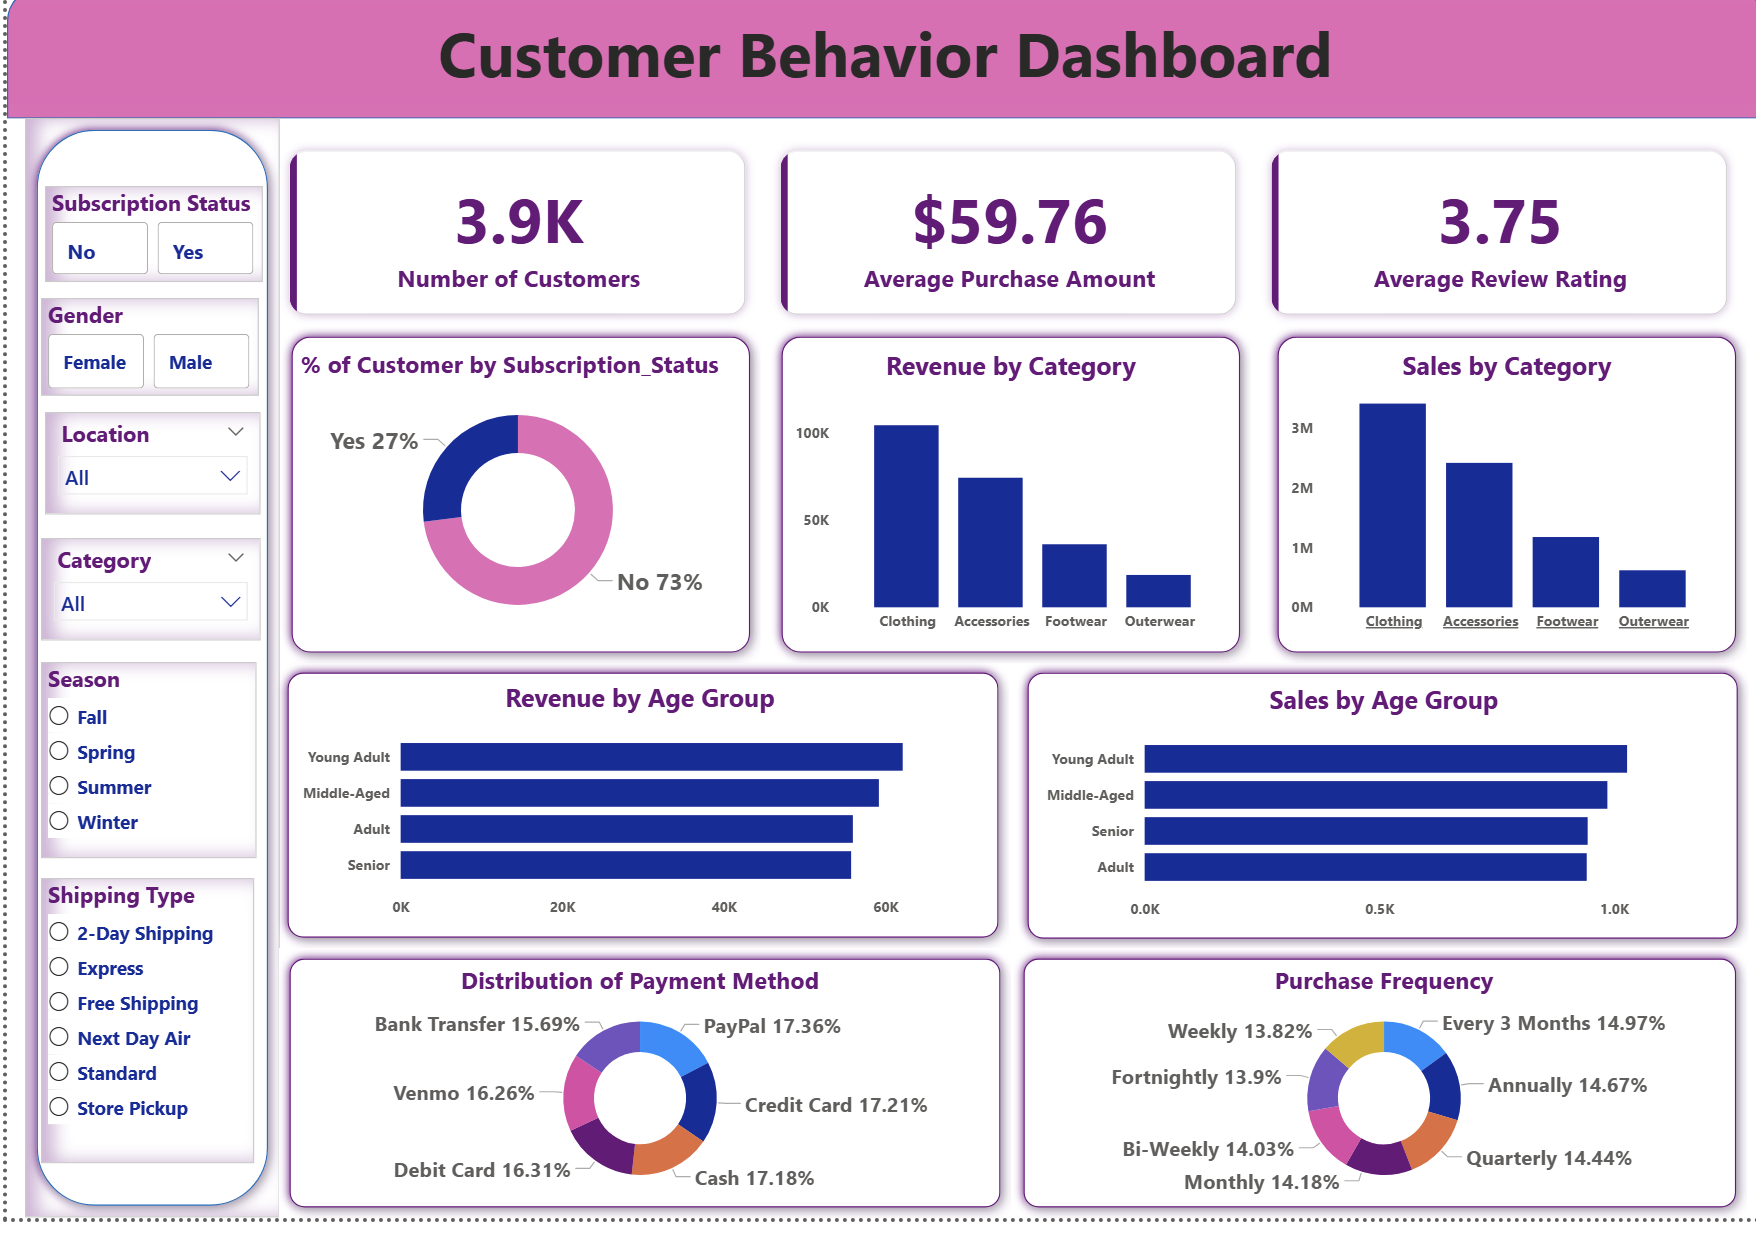

Layout of this report page (visuals, bound fields, positions):
{"tool":"powerbi","page":{"name":"Page 1","canvas":[1500,1050],"ordinal":0},"visuals":[{"type":"cardVisual","fields":{"Data":["ProjectSalesData.Number of Customers","ProjectSalesData.Average Purchase Amount","ProjectSalesData.Average Review Rating"]},"box":[214,111.7,1284,197],"z":0},{"type":"shape","box":[0,0,1500,111.5],"z":1000},{"type":"textbox","box":[0,14.2,1500,85.1],"z":2000},{"type":"shape","box":[233.1,287.8,409.5,287.8],"z":3000},{"type":"donutChart","title":"% of Customer by Subscription_Status","fields":{"Category":["ProjectSalesData.subscription_status"],"Y":["CountNonNull(ProjectSalesData.customer_id)"]},"box":[246.2,306.8,380.6,250],"z":4000},{"type":"shape","box":[652.7,287.8,409.5,287.8],"z":5000},{"type":"shape","box":[1076.4,287.8,409.5,287.8],"z":6000},{"type":"clusteredColumnChart","title":"Revenue by Category","fields":{"Category":["ProjectSalesData.category"],"Y":["Sum(ProjectSalesData.purchase_amount)"]},"box":[666.9,308.1,379.1,251.4],"z":7000},{"type":"clusteredColumnChart","title":"Sales by Category","fields":{"Category":["ProjectSalesData.category"],"Y":["Sum(ProjectSalesData.customer_id)"]},"box":[1090.5,308.1,379.1,251.4],"z":8000},{"type":"shape","box":[14.9,111.5,217.4,938.5],"z":9000},{"type":"advancedSlicerVisual","fields":{"Values":["ProjectSalesData.subscription_status"]},"box":[31.6,169.1,185.8,81.8],"z":10000},{"type":"advancedSlicerVisual","fields":{"Values":["ProjectSalesData.gender"]},"box":[29.7,263.9,185.8,83.6],"z":11000},{"type":"listSlicer","fields":{"Values":["ProjectSalesData.shipping_type"]},"box":[29.7,760.1,182.1,243.5],"z":12000},{"type":"shape","box":[231,575.7,624.9,244.3],"z":13000},{"type":"shape","box":[861.5,575.7,624.3,245.3],"z":14000},{"type":"clusteredBarChart","title":"Revenue by Age Group","fields":{"Category":["ProjectSalesData.age_group"],"Y":["Sum(ProjectSalesData.purchase_amount)"]},"box":[246.2,590.9,589,212.1],"z":15000},{"type":"clusteredBarChart","title":"Sales by Age Group","fields":{"Category":["ProjectSalesData.age_group"],"Y":["CountNonNull(ProjectSalesData.customer_id)"]},"box":[880.6,592.7,589,212.1],"z":16000},{"type":"listSlicer","fields":{"Values":["ProjectSalesData.season"]},"box":[29.7,576.1,184,167.3],"z":17000},{"type":"slicer","fields":{"Values":["ProjectSalesData.location"]},"box":[31.6,362.4,184,87.3],"z":18000},{"type":"slicer","fields":{"Values":["ProjectSalesData.category"]},"box":[29.7,470.2,187.7,87.3],"z":19000},{"type":"shape","box":[232.2,819.5,624.9,230.5],"z":21000},{"type":"donutChart","title":"Distribution of Payment Method","fields":{"Category":["ProjectSalesData.payment_method"],"Y":["CountNonNull(ProjectSalesData.customer_id)"]},"box":[245.3,832.6,589.1,202.6],"z":21001},{"type":"shape","box":[858.6,819.6,626.3,230.4],"z":21003},{"type":"donutChart","title":"Purchase Frequency","fields":{"Y":["CountNonNull(ProjectSalesData.customer_id)"],"Category":["ProjectSalesData.frequency_of_purchases"]},"box":[880.9,832.6,589.1,202.6],"z":21004}]}

Visuals, with their boxes in screenshot pixels (x1, y1, x2, y2), scaled from the page's 1500x1050 canvas onto the 1756x1234 screenshot:
cardVisual - ProjectSalesData.Number of Customers x ProjectSalesData.Average Purchase Amount: 251/131/1754/363
shape: 0/0/1755/131
textbox: 0/17/1755/117
shape: 273/338/752/676
"% of Customer by Subscription_Status" donutChart: 288/361/734/654
shape: 764/338/1243/676
shape: 1260/338/1739/676
"Revenue by Category" clusteredColumnChart: 781/362/1225/658
"Sales by Category" clusteredColumnChart: 1277/362/1720/658
shape: 17/131/272/1233
advancedSlicerVisual - ProjectSalesData.subscription_status: 37/199/255/295
advancedSlicerVisual - ProjectSalesData.gender: 35/310/252/408
listSlicer - ProjectSalesData.shipping_type: 35/893/248/1179
shape: 270/677/1002/964
shape: 1009/677/1739/965
"Revenue by Age Group" clusteredBarChart: 288/694/978/944
"Sales by Age Group" clusteredBarChart: 1031/697/1720/946
listSlicer - ProjectSalesData.season: 35/677/250/874
slicer - ProjectSalesData.location: 37/426/252/529
slicer - ProjectSalesData.category: 35/553/255/655
shape: 272/963/1003/1233
"Distribution of Payment Method" donutChart: 287/979/977/1217
shape: 1005/963/1738/1233
"Purchase Frequency" donutChart: 1031/979/1721/1217
